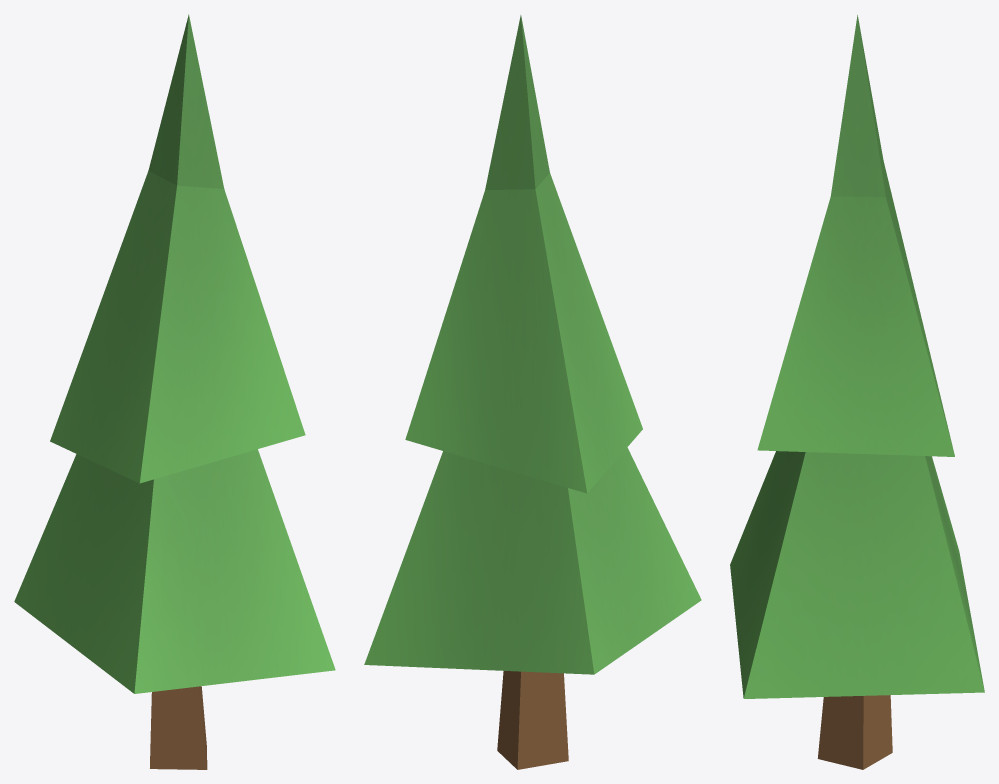
The model's file is Fir_Tree_OneSided_s_05.fbx.
The picture shows the model from 3 angles, left to right: view 1: azimuth 30°, elevation 25°; view 2: azimuth 150°, elevation 25°; view 3: azimuth 270°, elevation 25°; orthographic projection.
Visible parts, largest first — view 1: Fir_Tree_OneSided_s_05; view 2: Fir_Tree_OneSided_s_05; view 3: Fir_Tree_OneSided_s_05.
Part boxes in pixels (bbox=[...]): Fir_Tree_OneSided_s_05: bbox=[14, 14, 335, 769]; Fir_Tree_OneSided_s_05: bbox=[364, 15, 701, 769]; Fir_Tree_OneSided_s_05: bbox=[730, 15, 984, 769].
Size of the model in its own units: 44.08 by 143 by 44.39.
